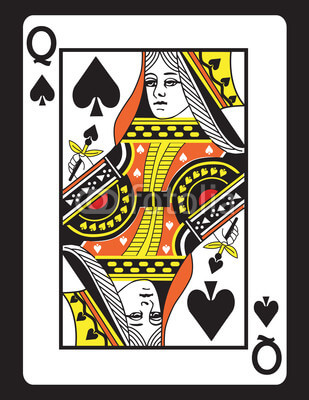queen of spades: (23, 15, 287, 385)
